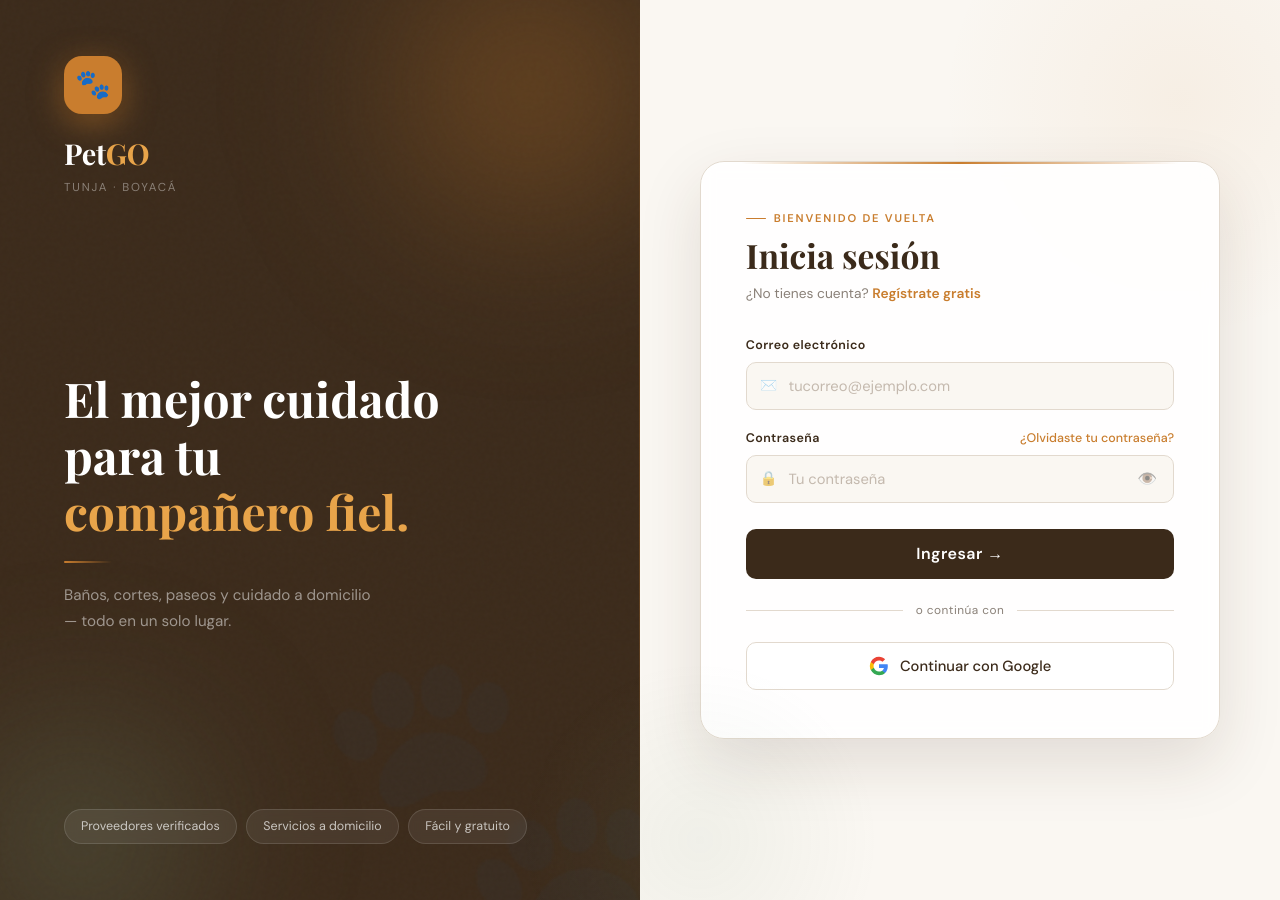
Test case: Login - validaciones › muestra error si correo no es válido
This screenshot has width=1280, height=900.
Type "correo-invalido" into the field with placeholder "tucorreo@ejemplo.com" at x=960, y=386, box [746,362,1174,410]
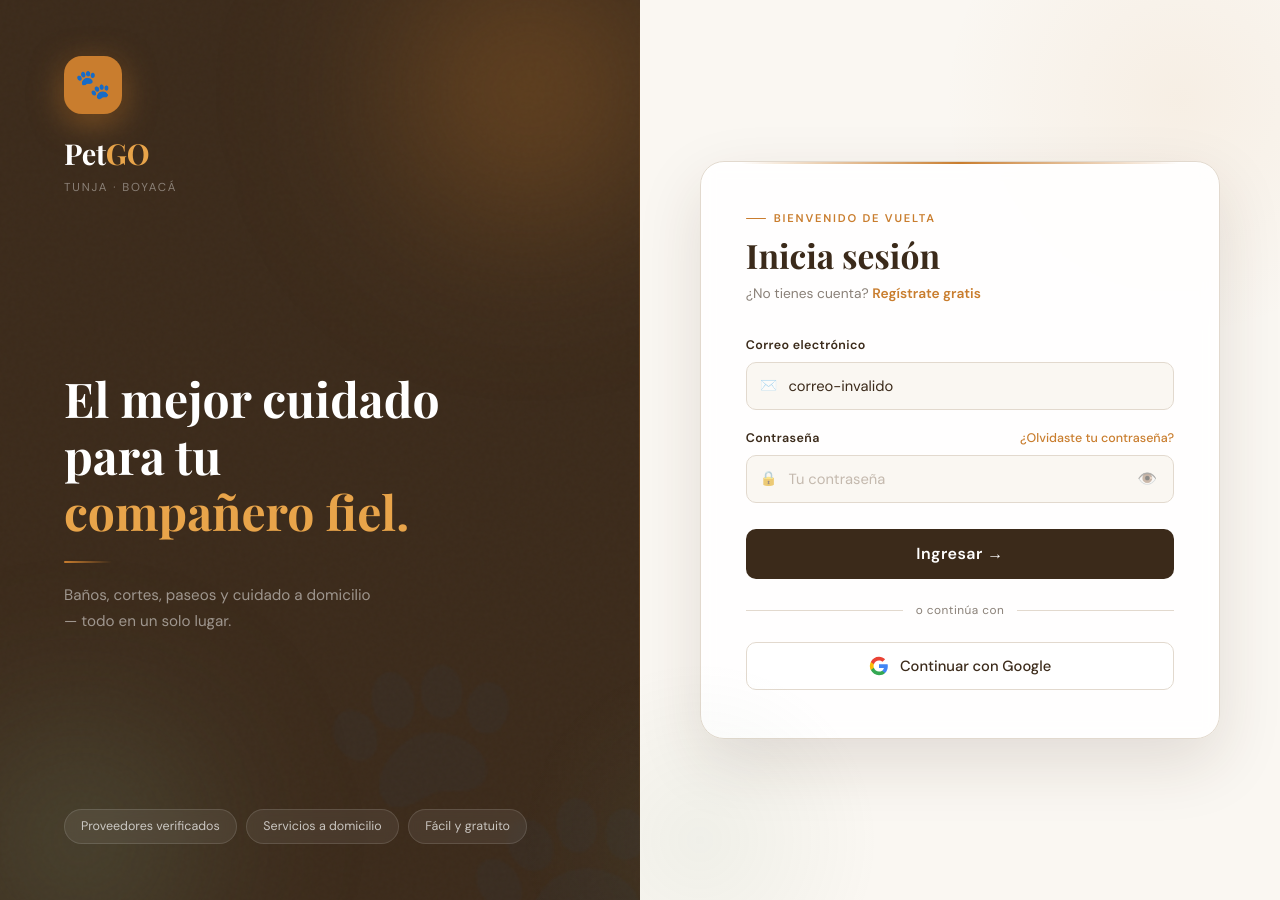
Type "123456" into the password field with placeholder "Tu contraseña" at x=960, y=479, box [746,455,1174,503]
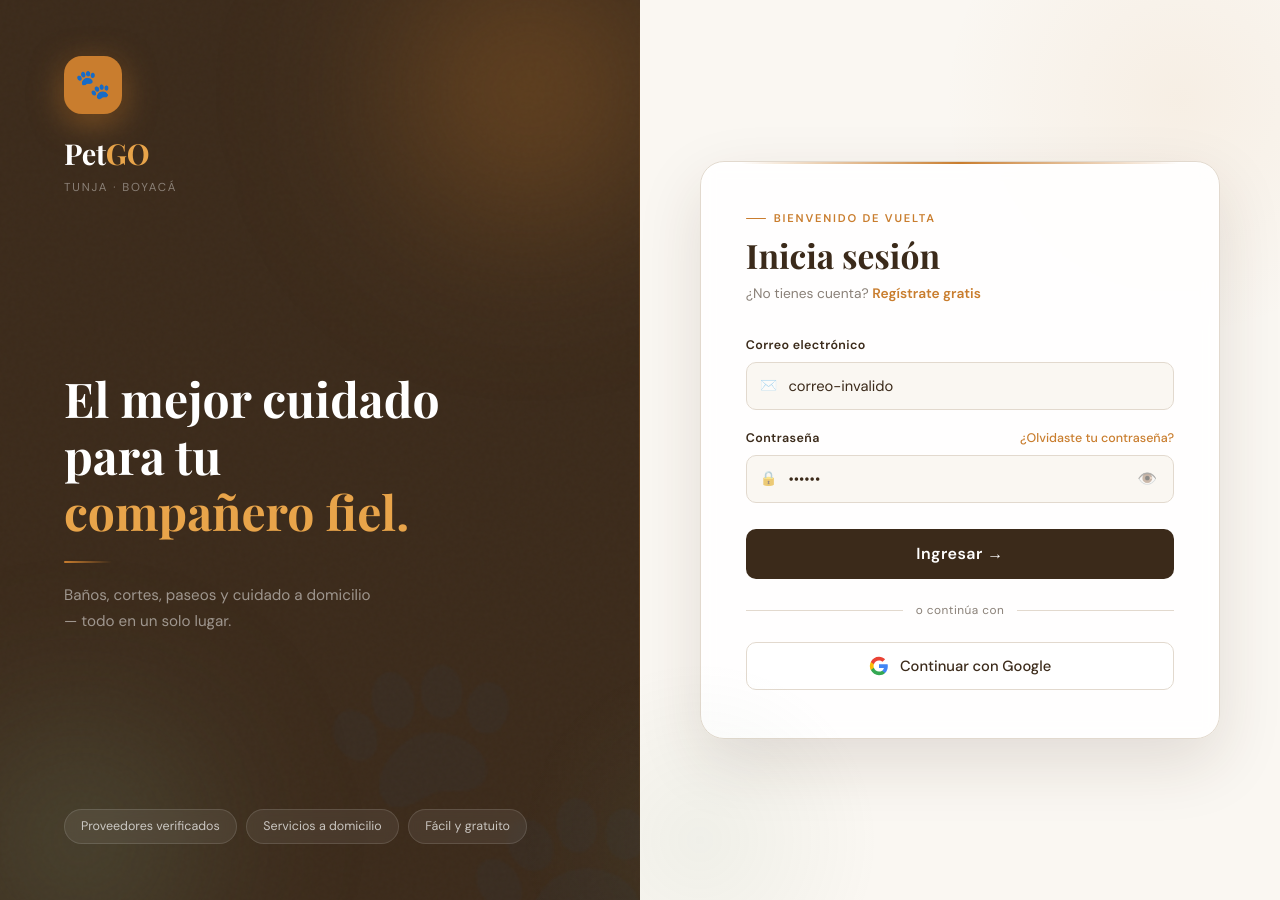
Click the button "Ingresar →" at x=960, y=554, box [746,529,1174,579]
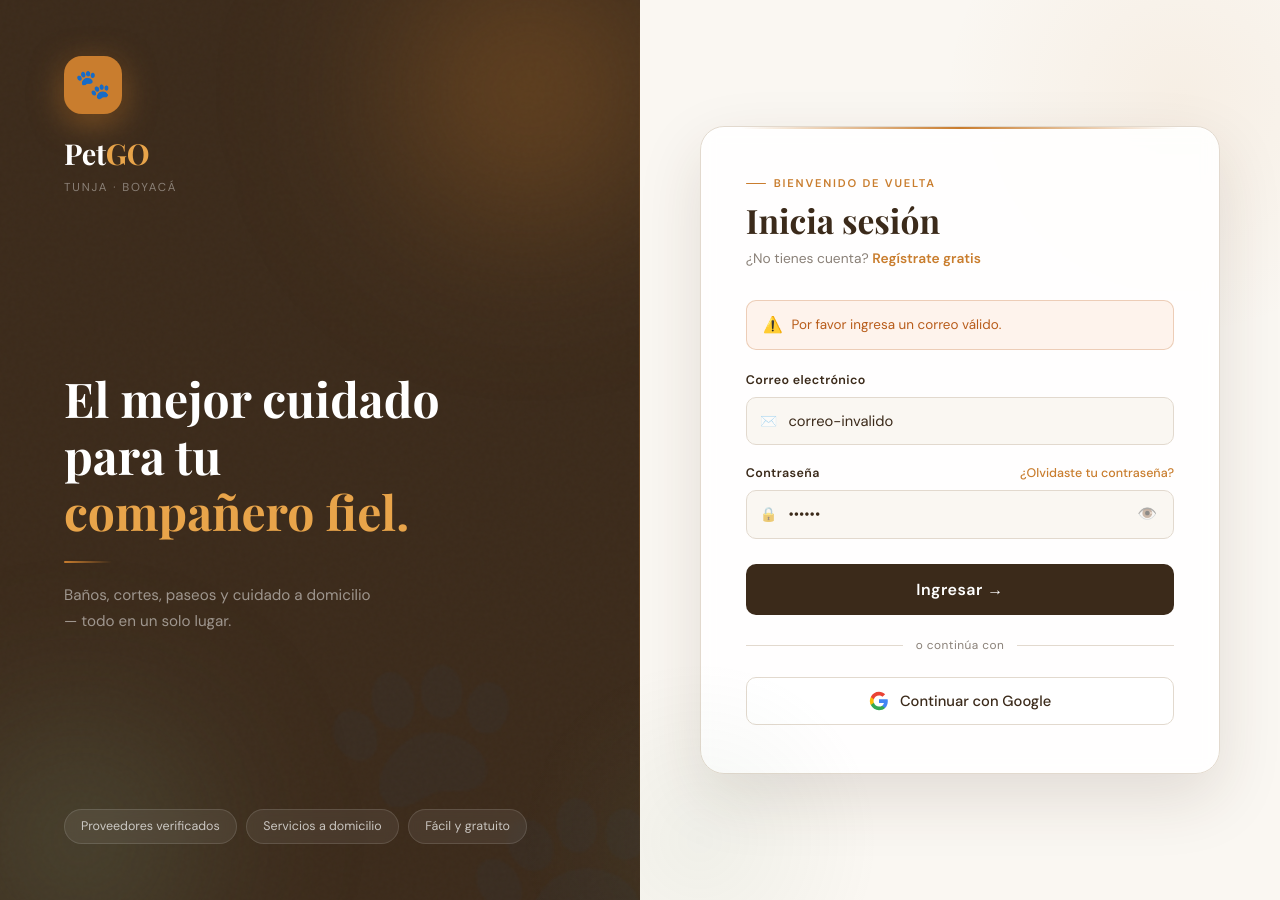
Expected: the text "Por favor ingresa un correo válido." is shown, [792,316,1001,333]
